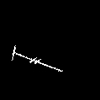treble_crochet: (13, 47, 60, 70)
